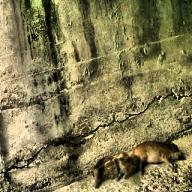boar: (130, 139, 185, 175), (92, 151, 139, 188)
